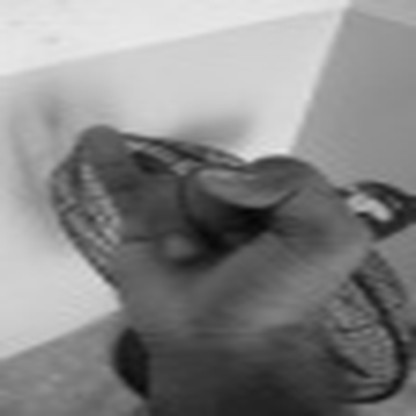i: (74, 114, 382, 337)
